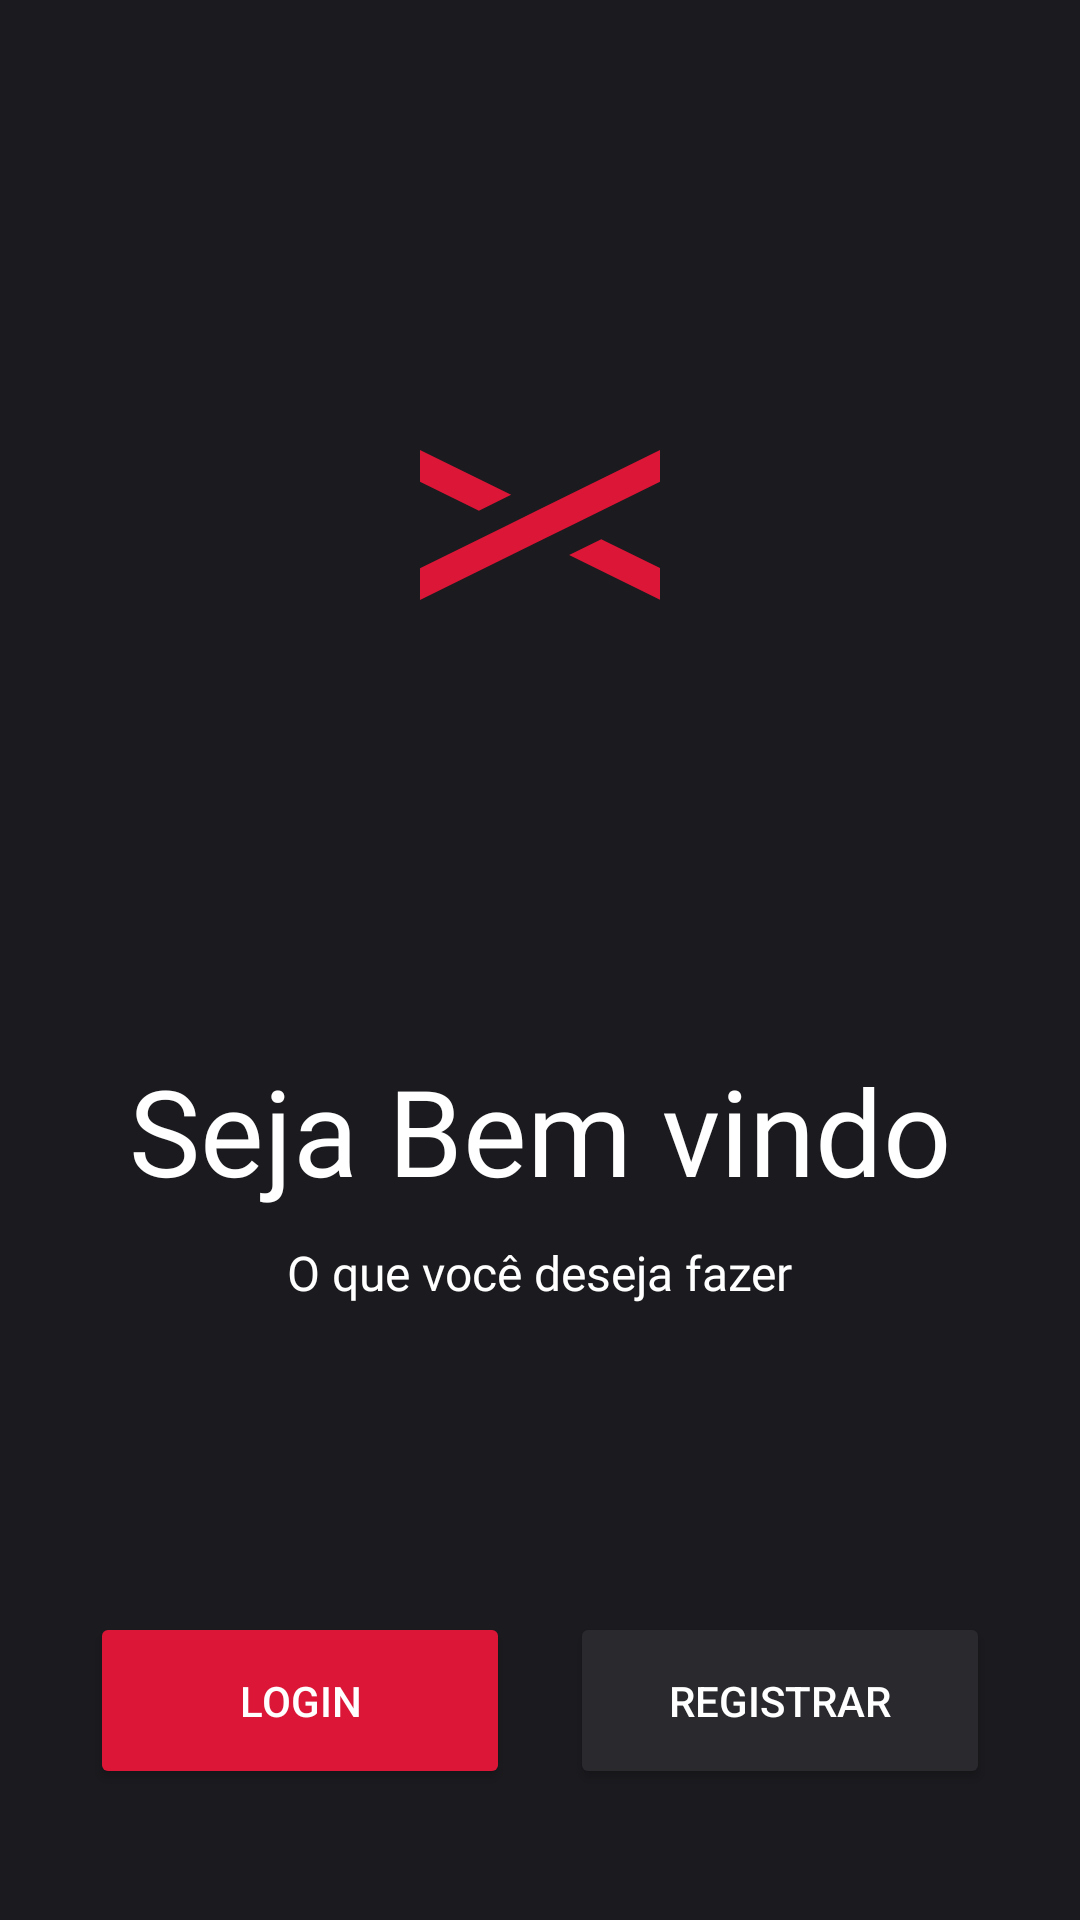

Icon click points for this 1080 x 1920 phone screenshot, format (x,y):
union: (540,525)
